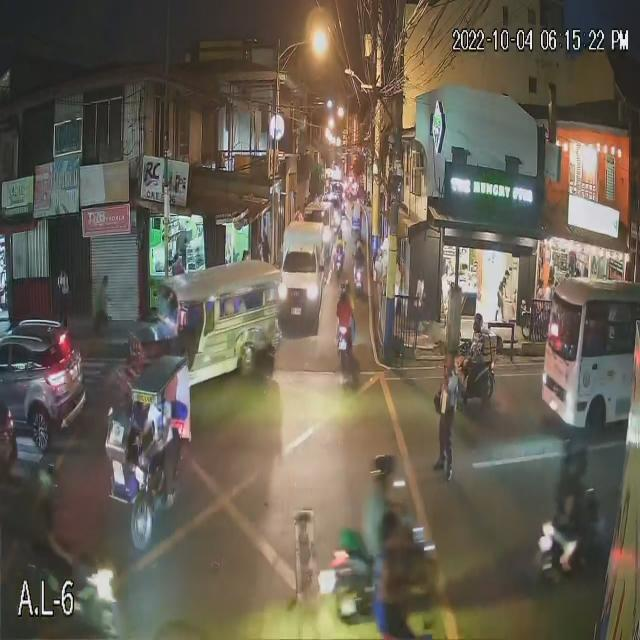helmet: (369, 455, 396, 478), (473, 316, 484, 327)
motorcycle: (34, 563, 137, 635), (322, 554, 441, 602), (540, 525, 601, 579), (439, 363, 497, 408), (330, 326, 360, 367), (353, 269, 366, 295), (334, 250, 346, 274)
rider: (26, 497, 52, 591), (365, 488, 390, 571), (560, 486, 580, 555), (471, 334, 487, 390), (338, 299, 352, 340), (357, 250, 363, 274)
